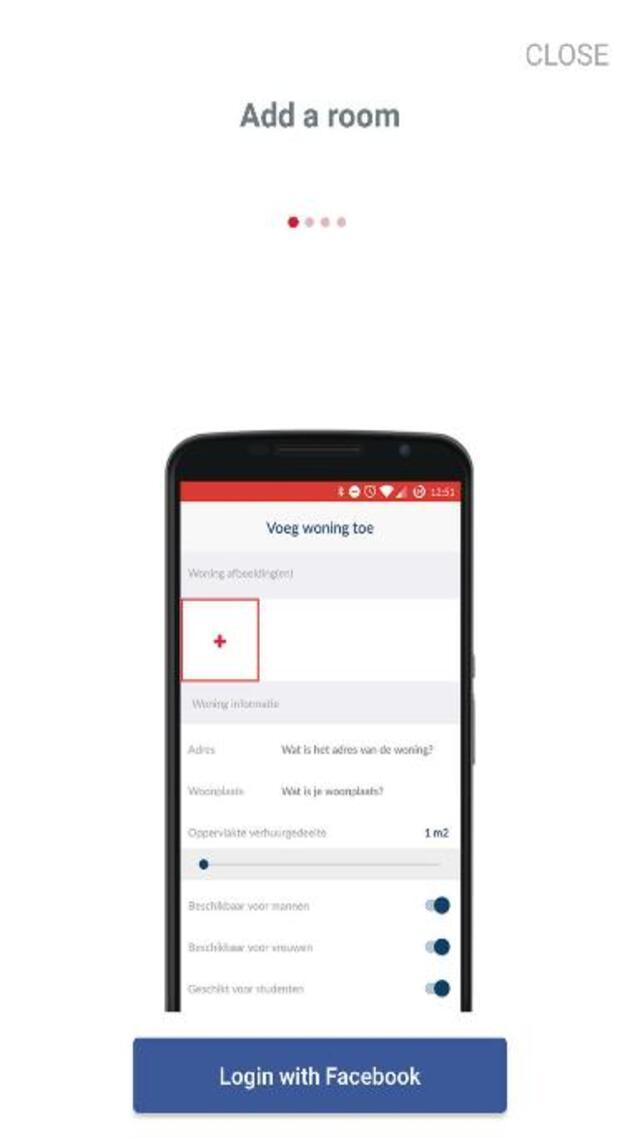Image: (164, 431, 473, 1012)
Text: (215, 1062, 422, 1091), (239, 100, 399, 128), (526, 44, 608, 66)
TextButton: (133, 1036, 505, 1112)
